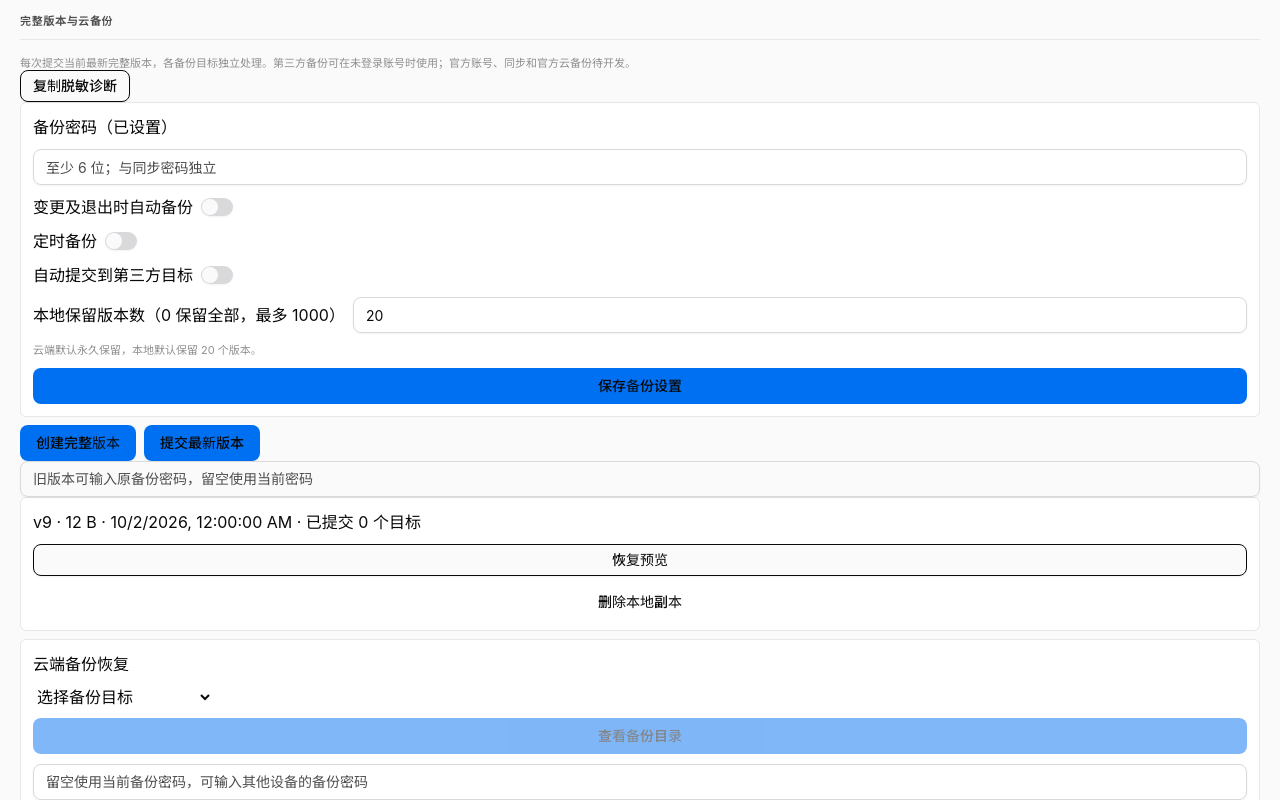
Test: shows the authoritative source and change counts; cancelling never applies a restore
This screenshot has width=1280, height=800.
Click the button "恢复预览" at (640, 560), box x1=33 y1=544 x2=1247 y2=576
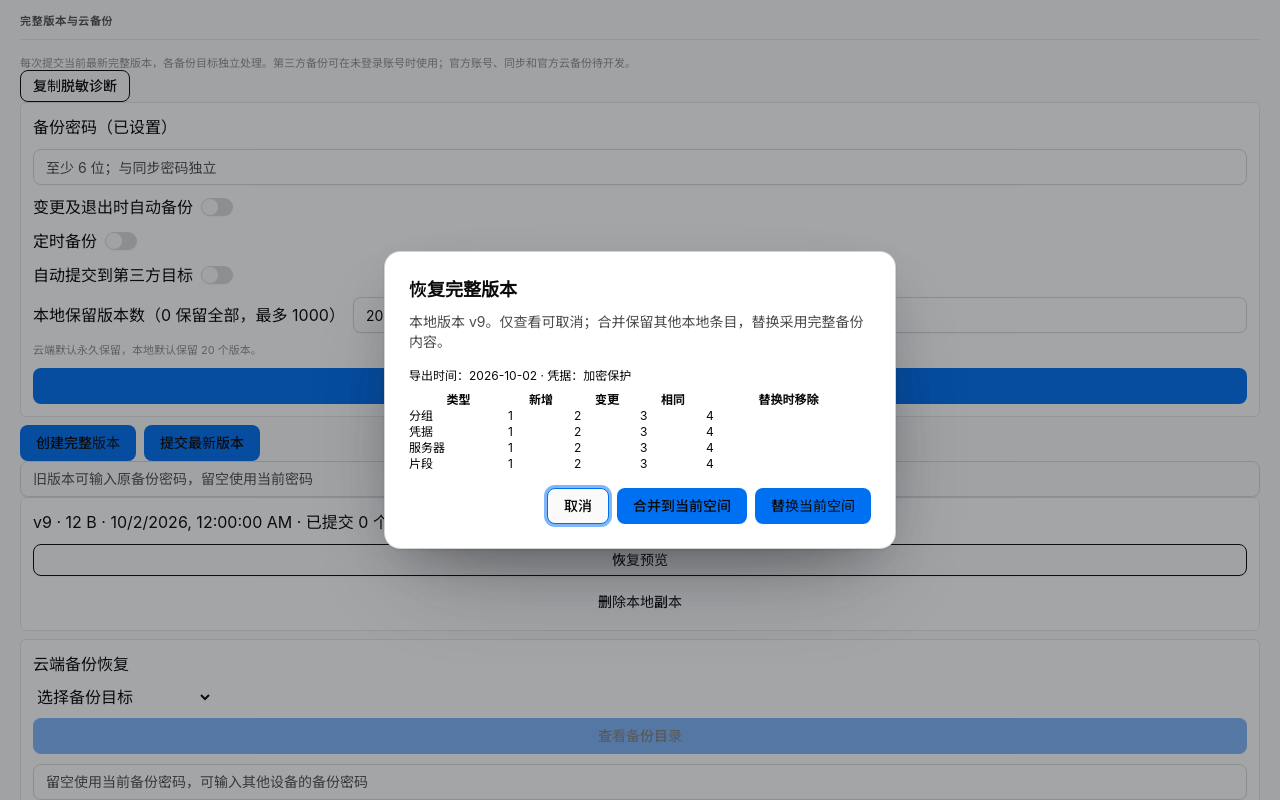
expect the text "本地版本 v9" is shown: met, box x1=409 y1=313 x2=486 y2=330
expect the text "替换时移除" is shown: met, box x1=706 y1=392 x2=871 y2=408
expect the row "分组 1 2 3 4" is shown: met, box x1=409 y1=408 x2=871 y2=424
Click the button "取消" at (578, 506), box x1=547 y1=488 x2=609 y2=524
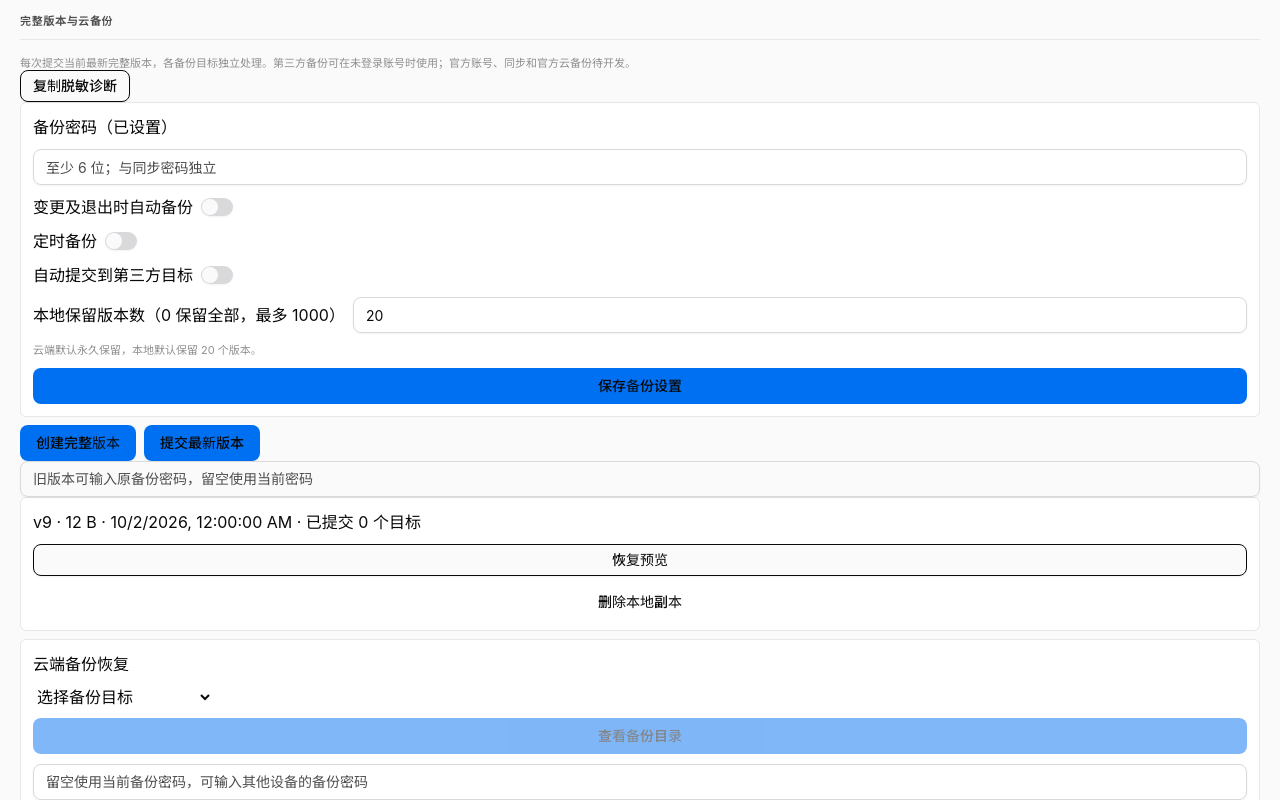
expect the dialog is gone: met
